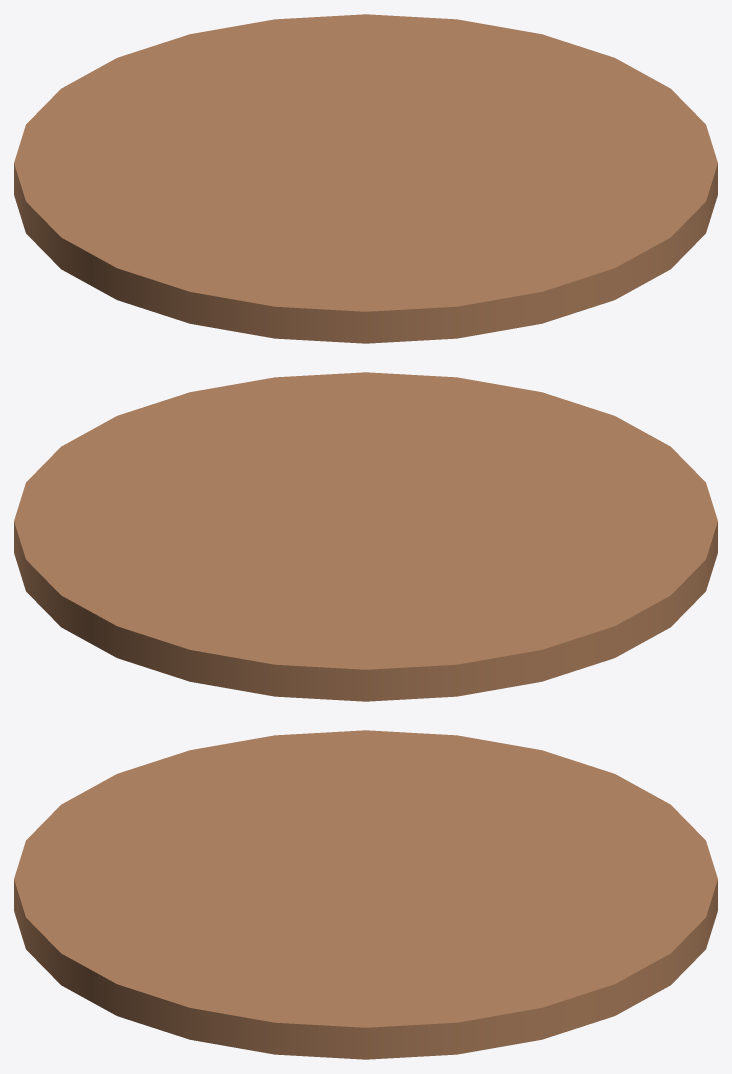
Rendered from coaster.glb.
The picture shows the model from 3 angles, top to bottom: view 1: azimuth 30°, elevation 25°; view 2: azimuth 150°, elevation 25°; view 3: azimuth 270°, elevation 25°; orthographic projection.
Visible parts, largest first — view 1: coaster; view 2: coaster; view 3: coaster.
Part boxes in pixels (left/top/right/bottom): coaster: left=14, top=14, right=717, bottom=343; coaster: left=14, top=372, right=717, bottom=701; coaster: left=14, top=730, right=717, bottom=1059.
Size of the model in its own units: 10 by 0.5 by 10.
